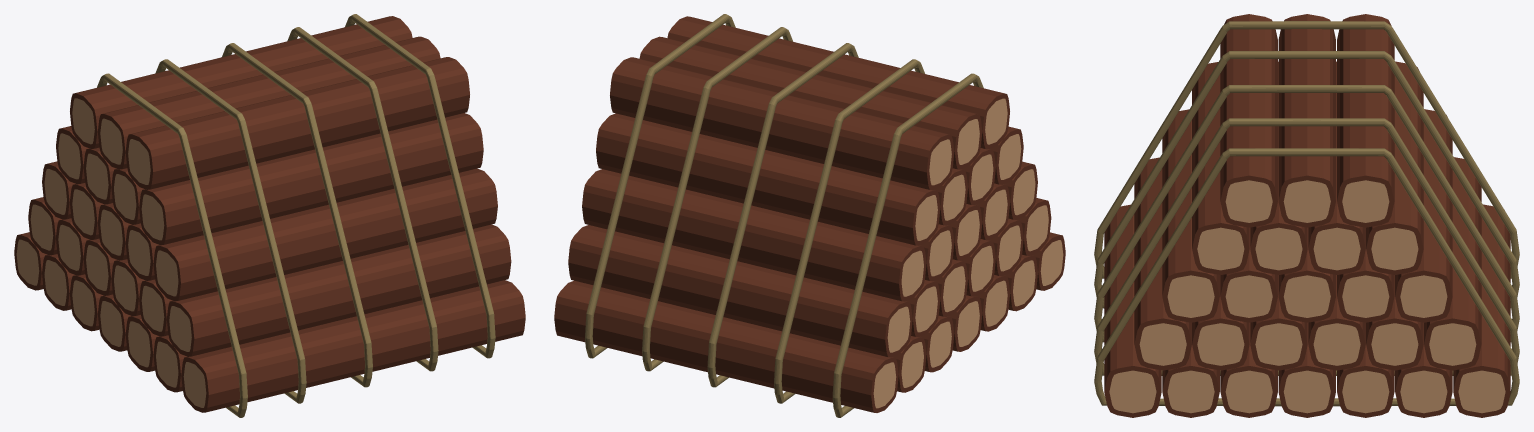
Rendered from TroncosAmarrados_A01.fbx.
The picture shows the model from 3 angles, left to right: view 1: azimuth 30°, elevation 25°; view 2: azimuth 150°, elevation 25°; view 3: azimuth 270°, elevation 25°; orthographic projection. The views are drawn at different scales.
Visible parts, largest first — view 1: Troncos, Cordas; view 2: Troncos, Cordas; view 3: Troncos, Cordas.
Part boxes in pixels (bbox=[...]): Troncos: bbox=[14, 16, 525, 412]; Cordas: bbox=[97, 14, 495, 417]; Troncos: bbox=[554, 16, 1065, 412]; Cordas: bbox=[585, 14, 983, 417]; Troncos: bbox=[1104, 14, 1510, 417]; Cordas: bbox=[1094, 21, 1519, 406].
Bounding box in the file's own units: 478 × 356 × 533.
